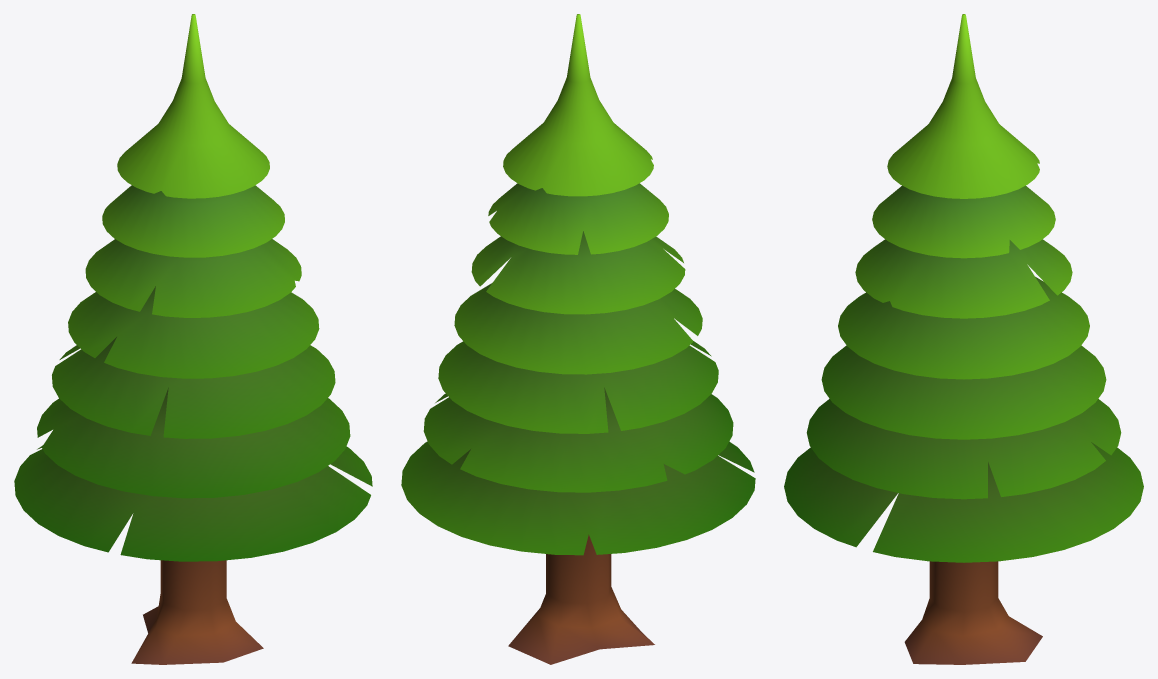
The model's file is tree_1.glb.
3 renders of one model, left to right at view 1: azimuth 30°, elevation 25°; view 2: azimuth 150°, elevation 25°; view 3: azimuth 270°, elevation 25°, orthographic.
Visible parts, largest first — view 1: Low poly tree; view 2: Low poly tree; view 3: Low poly tree.
Part boxes in pixels (x1=…): Low poly tree: x1=14, y1=14, x2=372, y2=664; Low poly tree: x1=401, y1=14, x2=755, y2=664; Low poly tree: x1=784, y1=14, x2=1143, y2=664.
Bounding box in the file's own units: 5.25 × 10.09 × 5.25.
